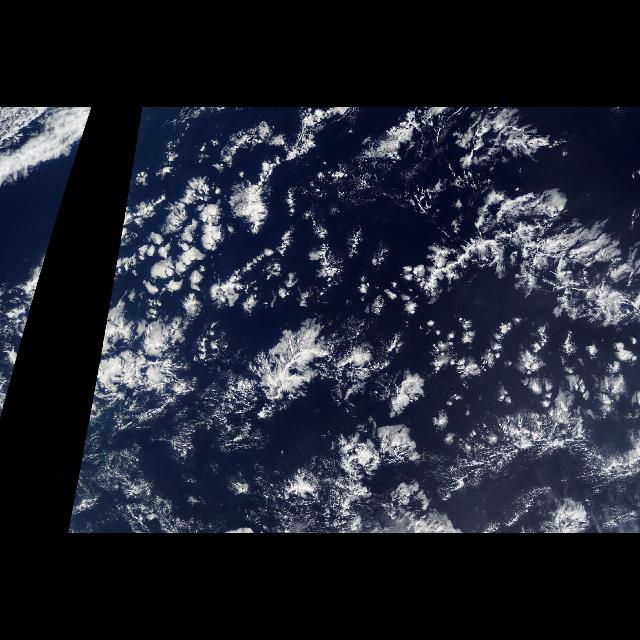Fish: (206, 308, 598, 507)
Flower: (128, 126, 638, 412)
Gravel: (106, 134, 386, 316), (25, 134, 85, 316)
